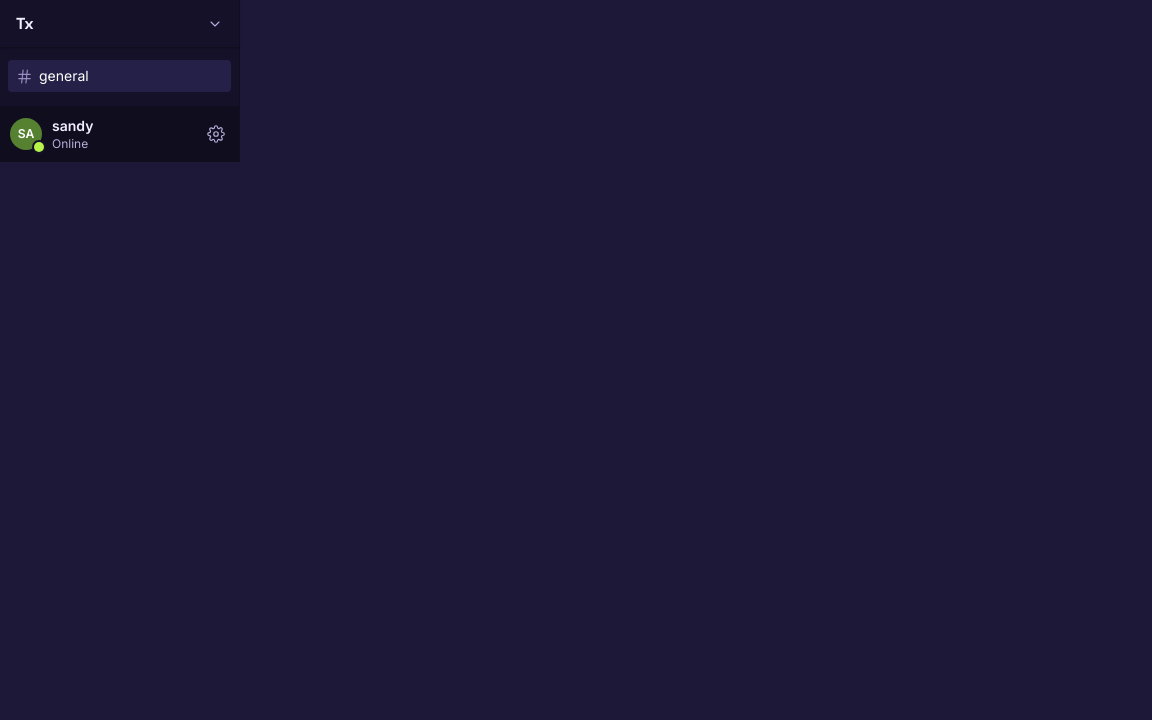
Test: role permissions come in five groups, each permission exactly once
The width and height of the screenshot is (1152, 720).
Click the button "Tx": (120, 24) [8, 0, 231, 47]
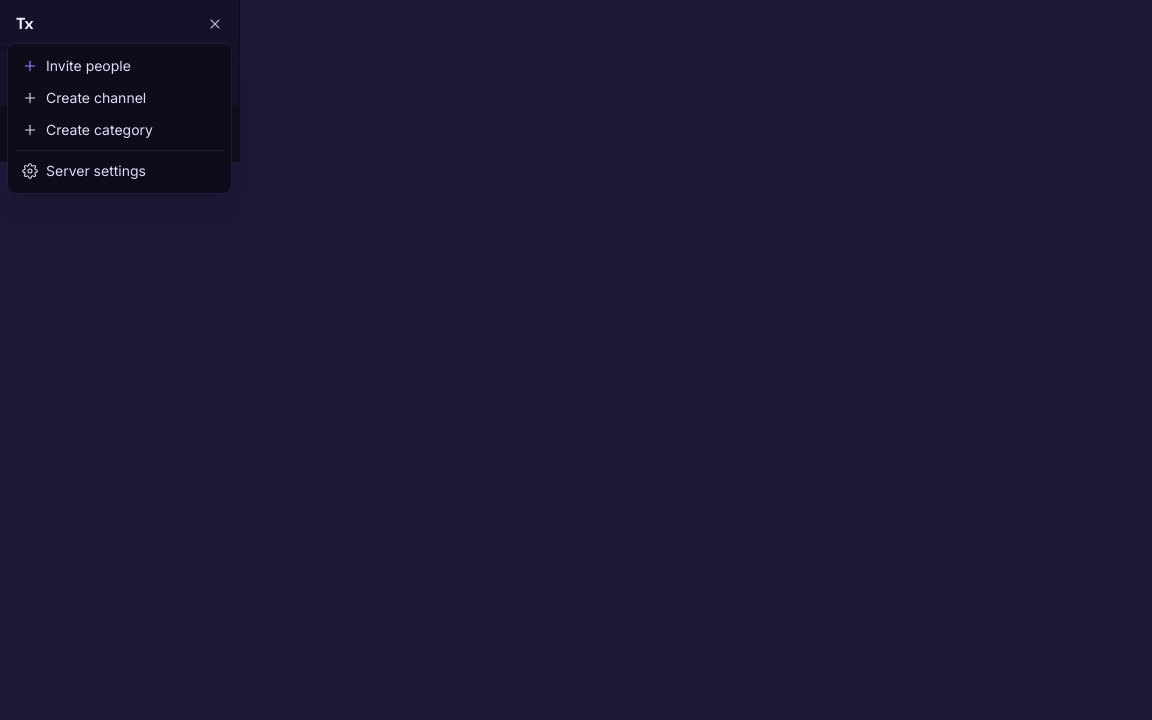
Click the button "Server settings": (120, 171) [14, 155, 225, 187]
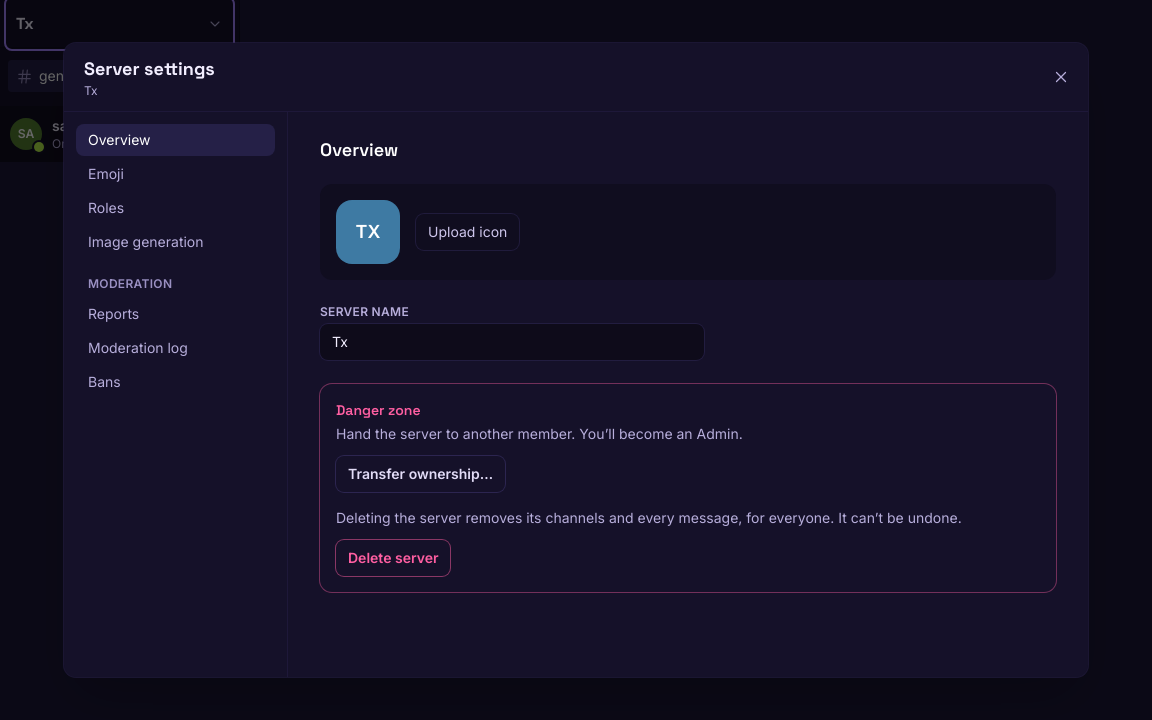
Click the tab "Roles": (176, 208) [76, 192, 275, 224]
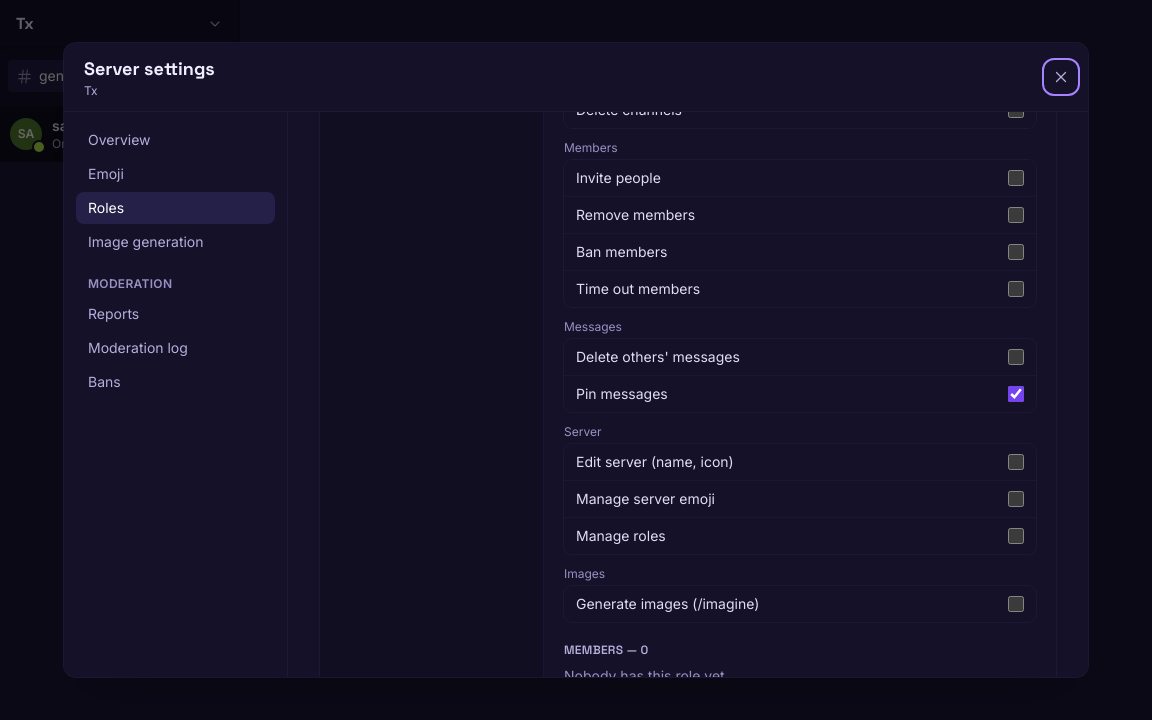
Expected: the checkbox labelled "Pin messages" is checked, [1008, 386, 1024, 402]
